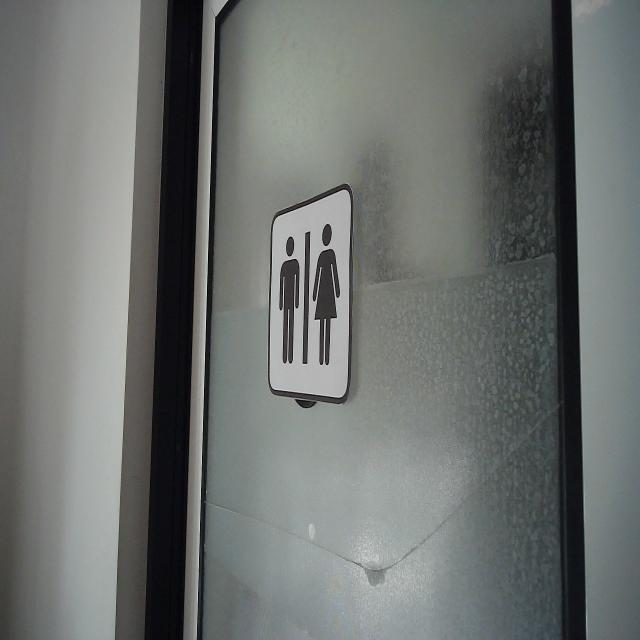restroom: (266, 180, 356, 406)
